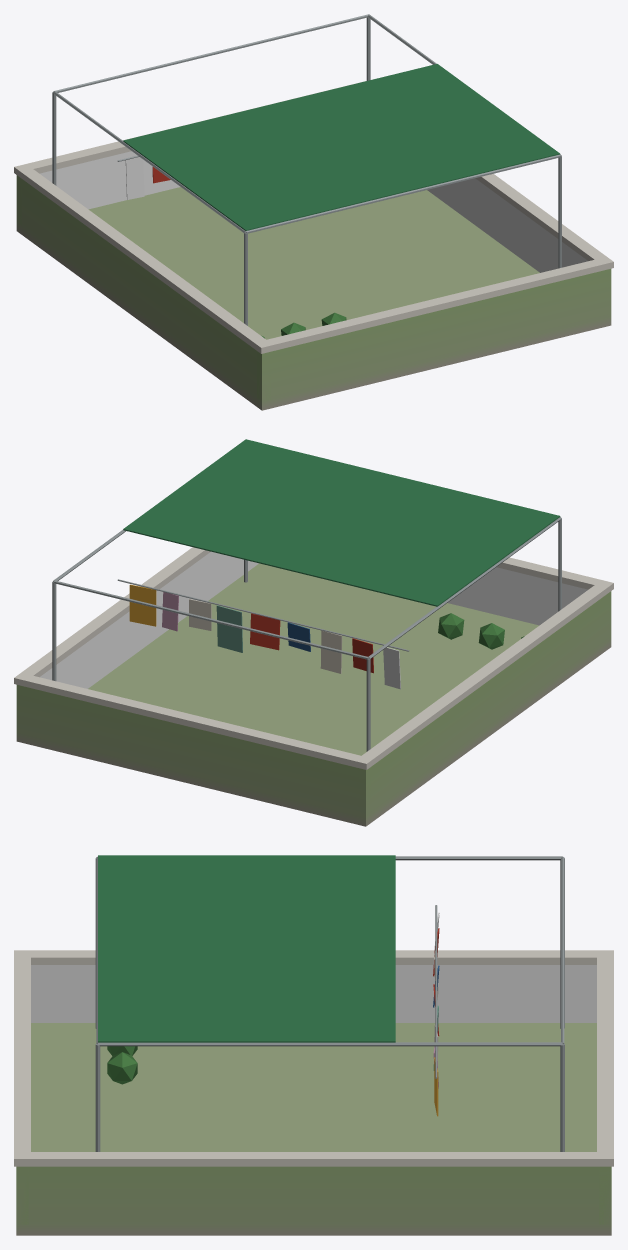
File: mai_luoi_60.glb
The picture shows the model from 3 angles, top to bottom: view 1: azimuth 30°, elevation 25°; view 2: azimuth 150°, elevation 25°; view 3: azimuth 270°, elevation 25°; orthographic projection. The views are drawn at different scales.
Parts seen in each view (by area): view 1: mai_luoi_60; view 2: mai_luoi_60; view 3: mai_luoi_60.
Boxes of the visible parts, <box> form: mai_luoi_60: <box>14,14,613,410</box>; mai_luoi_60: <box>14,439,613,826</box>; mai_luoi_60: <box>14,855,613,1235</box>.
Size of the model in its own units: 6.06 by 2.49 by 7.36.
